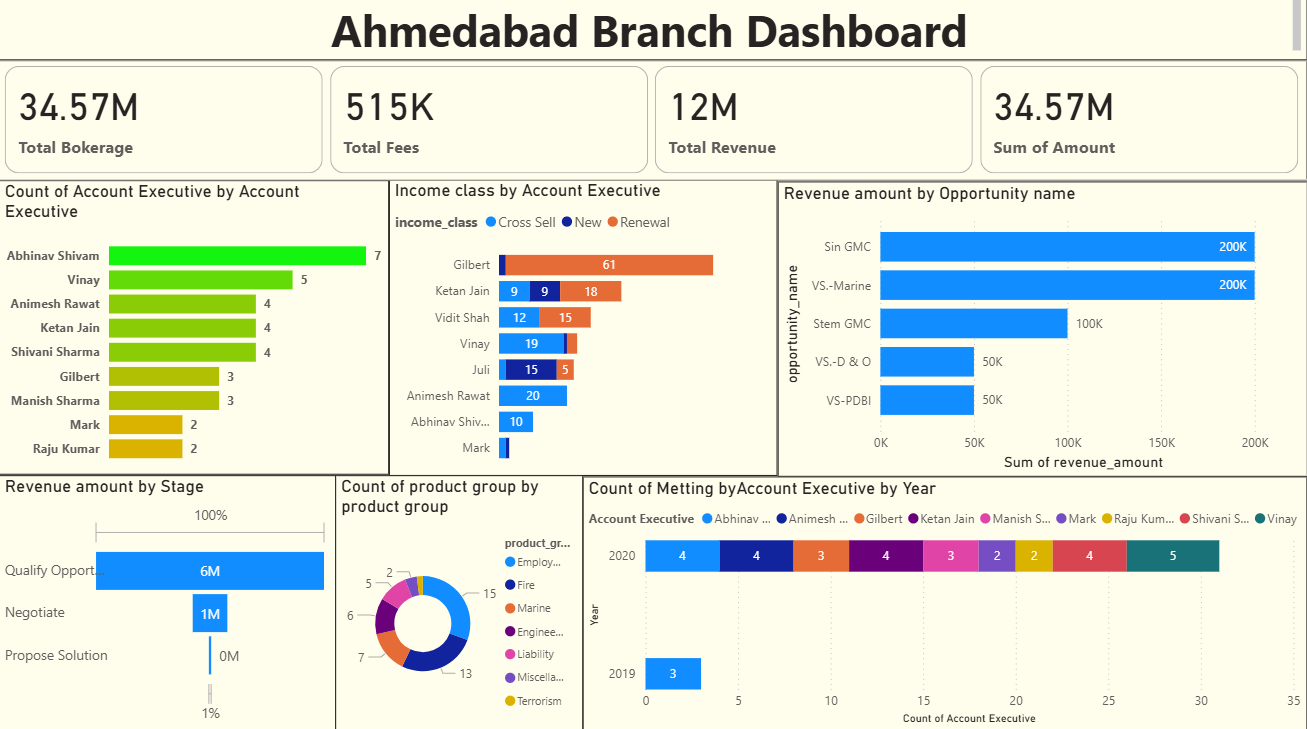

The dashboard page shown, as its layout file describes it:
{"tool":"powerbi","page":{"name":"Page 1","canvas":[1280,720],"ordinal":0},"visuals":[{"type":"barChart","fields":{"Category":["meeting_list_202001231041.Account Executive"],"Y":["CountNonNull(meeting_list_202001231041.Account Executive)"]},"box":[0,182.5,381.5,288.2],"z":0},{"type":"barChart","title":"Income class by Account Executive","fields":{"Category":["invoice_202001231041.Account Executive"],"Series":["invoice_202001231041.income_class"],"Y":["CountNonNull(invoice_202001231041.income_class)"]},"box":[381.4,181.4,380,290],"z":1000},{"type":"barChart","title":"Revenue amount by Opportunity name","fields":{"Category":["gcrm_opportunity_202001231041.opportunity_name"],"Y":["Sum(gcrm_opportunity_202001231041.revenue_amount)"]},"box":[761.4,182.9,518.6,288.6],"z":2000},{"type":"funnel","title":"Revenue amount by Stage","fields":{"Y":["Sum(gcrm_opportunity_202001231041.revenue_amount)"],"Category":["gcrm_opportunity_202001231041.stage"]},"box":[0,470.7,329.3,249.7],"z":3000},{"type":"donutChart","title":"Count of product group by product group","fields":{"Category":["gcrm_opportunity_202001231041.product_group"],"Y":["CountNonNull(gcrm_opportunity_202001231041.product_group)"]},"box":[328.9,470.8,242.1,249.5],"z":4000},{"type":"barChart","title":"Count of Metting byAccount Executive by Year ","fields":{"Category":["meeting_list_202001231041.meeting_date.Variation.Date Hierarchy.Year"],"Series":["meeting_list_202001231041.Account Executive"],"Y":["CountNonNull(meeting_list_202001231041.Account Executive)"]},"box":[571.4,471.4,708.6,248.6],"z":5000},{"type":"cardVisual","fields":{"Data":["NN+EN+EE Indi bdgt -20012020.Total bokerage","NN+EN+EE Indi bdgt -20012020.Total fees","NN+EN+EE Indi bdgt -20012020.Total Revenue","Sum(brokerage_202001231040.Amount)"]},"box":[0,65,1280,117.5],"z":6000},{"type":"textbox","box":[0,0,1280,65],"z":7000}]}

Visuals, with their boxes in screenshot pixels (x1, y1, x2, y2), scaled from the page's 1280x720 canvas onto the 1307x729 screenshot:
barChart - meeting_list_202001231041.Account Executive x CountNonNull(meeting_list_202001231041.Account Executive): bbox(0, 185, 390, 477)
"Income class by Account Executive" barChart: bbox(389, 184, 777, 477)
"Revenue amount by Opportunity name" barChart: bbox(777, 185, 1306, 477)
"Revenue amount by Stage" funnel: bbox(0, 477, 336, 728)
"Count of product group by product group" donutChart: bbox(336, 477, 583, 728)
"Count of Metting byAccount Executive by Year " barChart: bbox(583, 477, 1306, 728)
cardVisual - NN+EN+EE Indi bdgt -20012020.Total bokerage x NN+EN+EE Indi bdgt -20012020.Total fees: bbox(0, 66, 1306, 185)
textbox: bbox(0, 0, 1306, 66)
